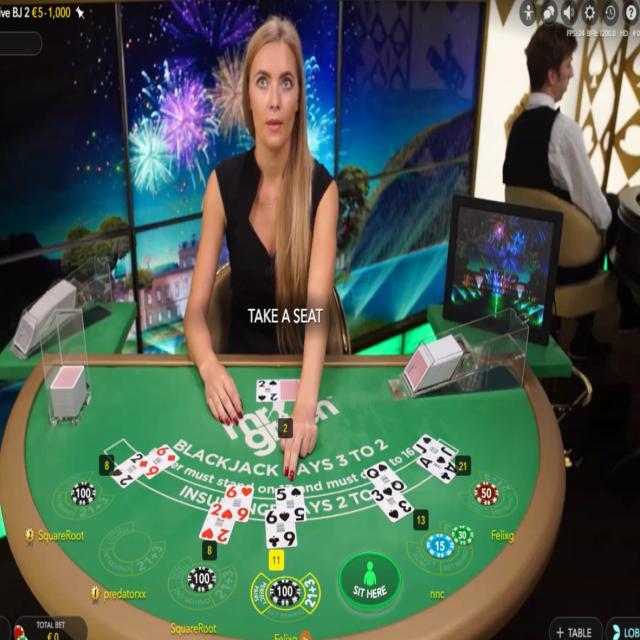Card-2: (198, 500, 235, 543), (109, 450, 145, 487), (256, 376, 280, 401)
Card-3: (368, 486, 414, 522)
Card-5: (274, 487, 306, 519)
Card-6: (143, 442, 178, 478), (222, 482, 254, 521), (265, 508, 297, 547)
Card-A: (418, 454, 460, 485)
Card-J: (412, 431, 453, 463)
Card-Q: (363, 459, 406, 495)
